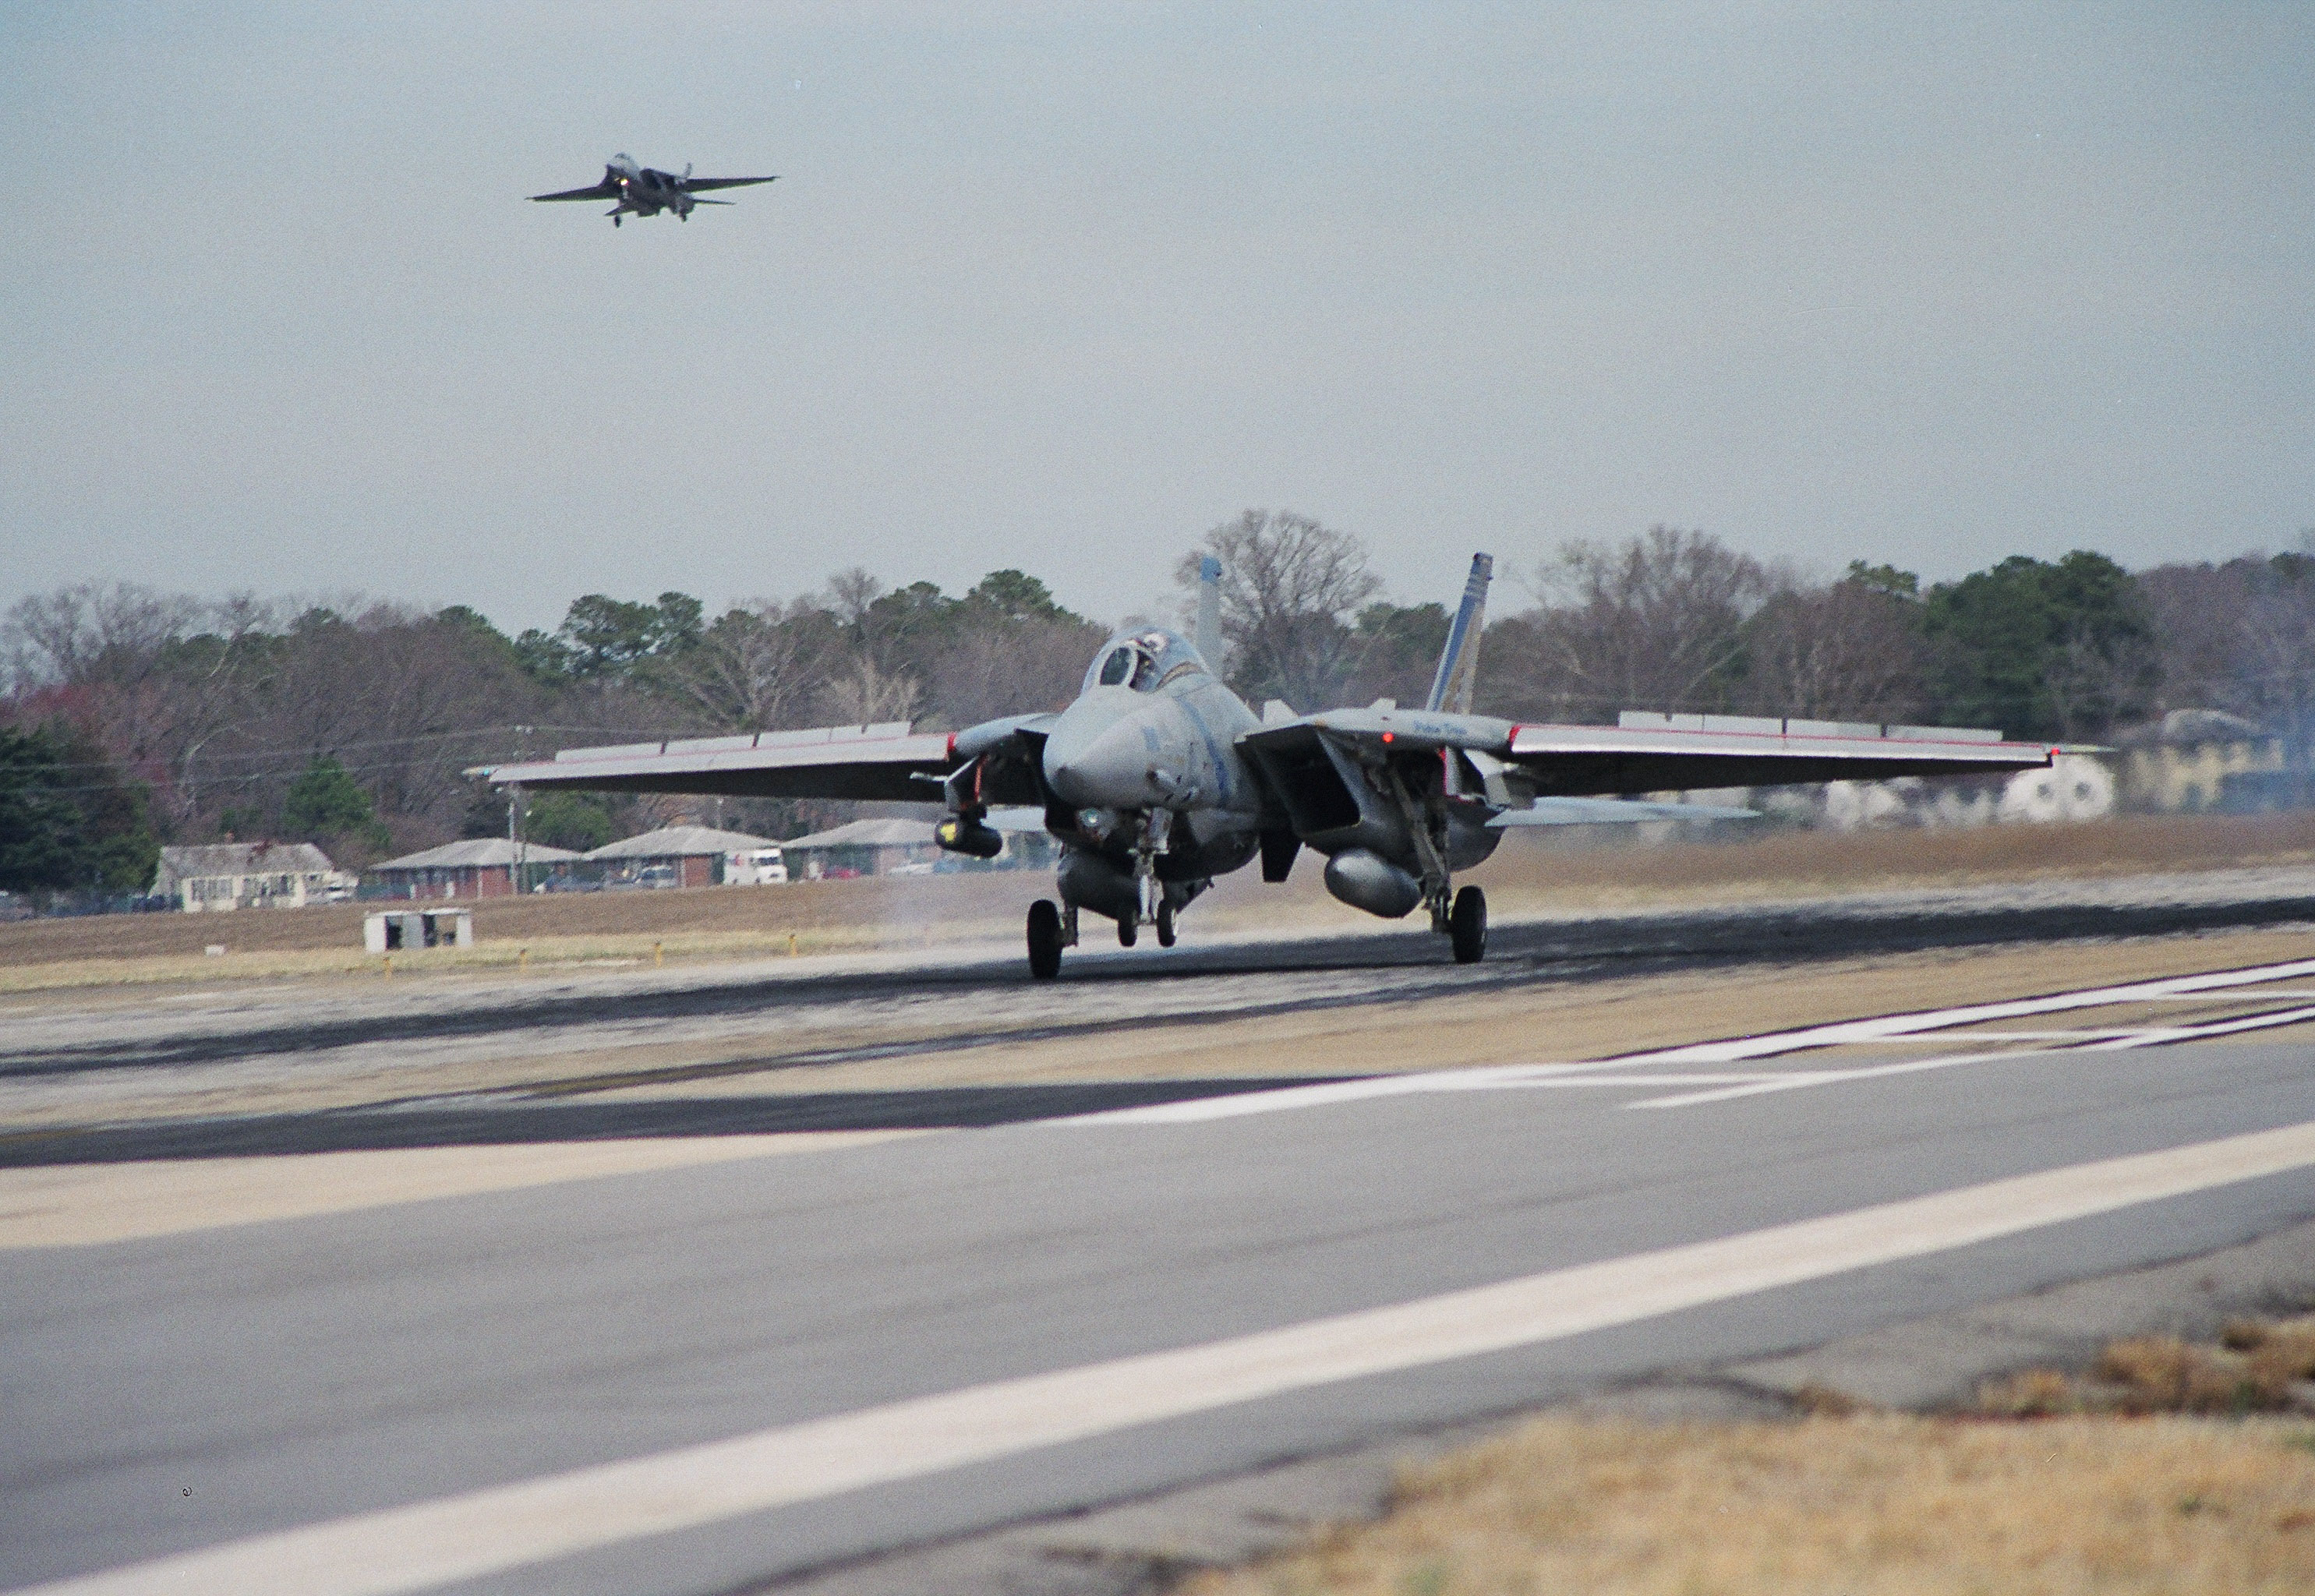F14: (461, 551, 2121, 977), (522, 151, 788, 229)
